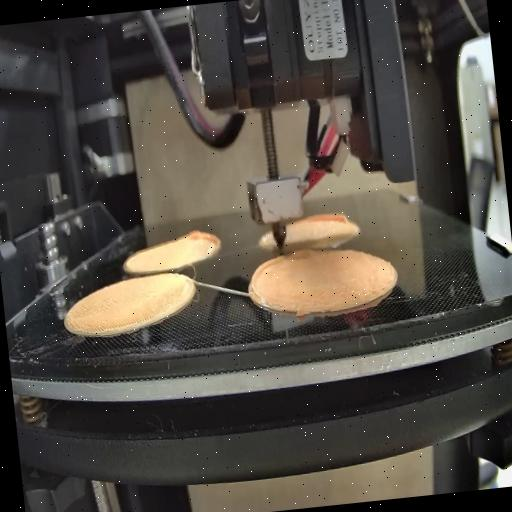over_extrusion: (247, 252, 288, 301), (186, 225, 224, 263), (308, 210, 352, 232), (292, 244, 314, 264)
